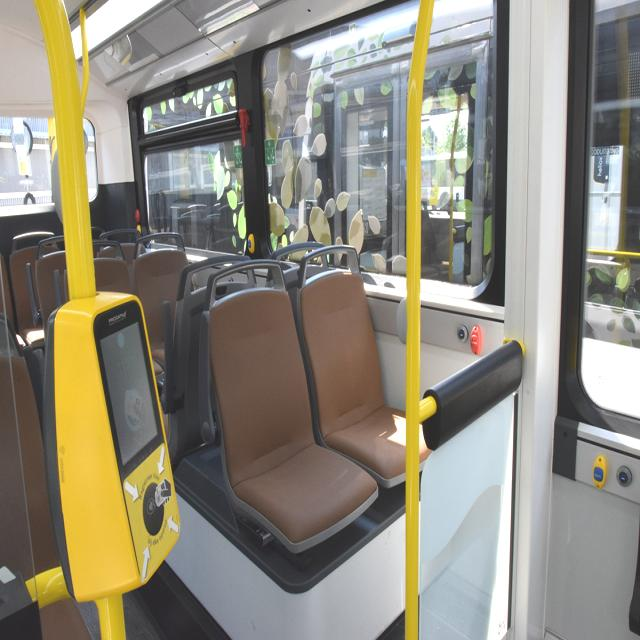asiento-libre: (209, 288, 378, 552), (297, 245, 406, 489), (134, 232, 188, 371), (10, 232, 54, 347), (36, 235, 70, 341), (100, 230, 141, 298), (92, 240, 133, 294)
